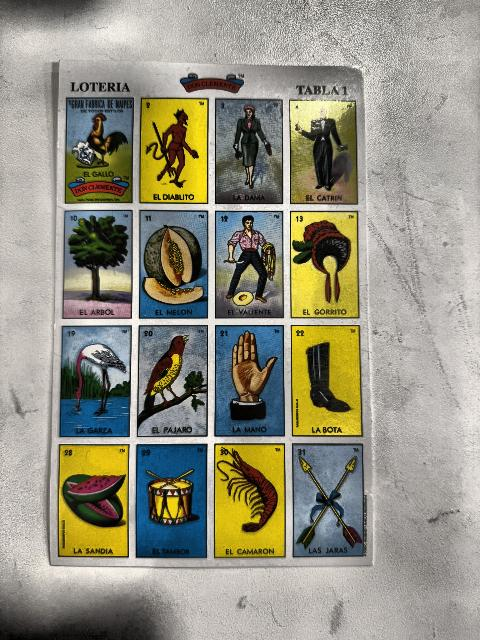El Arbol: (64, 210, 132, 318)
El Camaron: (215, 443, 286, 557)
El Catrin: (289, 100, 356, 204)
El Diablito: (140, 98, 210, 204)
El Gallo: (65, 98, 133, 203)
El Gorrito: (291, 211, 359, 317)
El Melon: (139, 210, 208, 319)
El Pajaro: (138, 325, 208, 437)
El Tambor: (136, 444, 207, 559)
El Valiente: (216, 211, 283, 318)
La Bota: (291, 325, 362, 437)
La Dama: (215, 99, 282, 204)
La Garza: (61, 326, 131, 437)
La Mano: (215, 325, 285, 437)
La Sandia: (59, 444, 129, 558)
Las Jaras: (293, 443, 364, 556)
Tabla 1: (52, 61, 372, 563)
